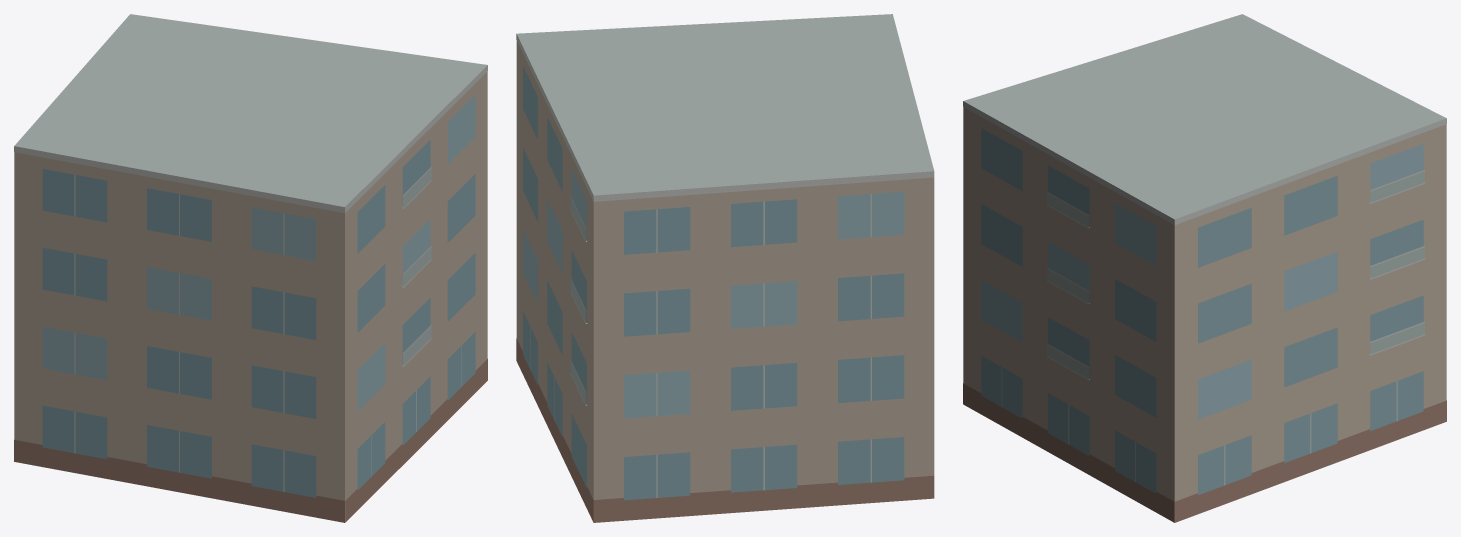
The model's file is survey-upis-32490804.glb.
The picture shows the model from 3 angles, left to right: view 1: azimuth 30°, elevation 25°; view 2: azimuth 150°, elevation 25°; view 3: azimuth 270°, elevation 25°; orthographic projection. The views are drawn at different scales.
Parts seen in each view (by area): view 1: survey-upis-32490804.tmp; view 2: survey-upis-32490804.tmp; view 3: survey-upis-32490804.tmp.
Part boxes in pixels (x1=…): survey-upis-32490804.tmp: x1=14, y1=14, x2=487, y2=522; survey-upis-32490804.tmp: x1=516, y1=14, x2=934, y2=522; survey-upis-32490804.tmp: x1=963, y1=14, x2=1446, y2=522.
Size of the model in its own units: 18.61 by 12.8 by 18.5.
